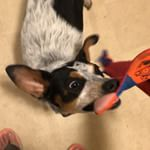puppy: (7, 1, 127, 120)
